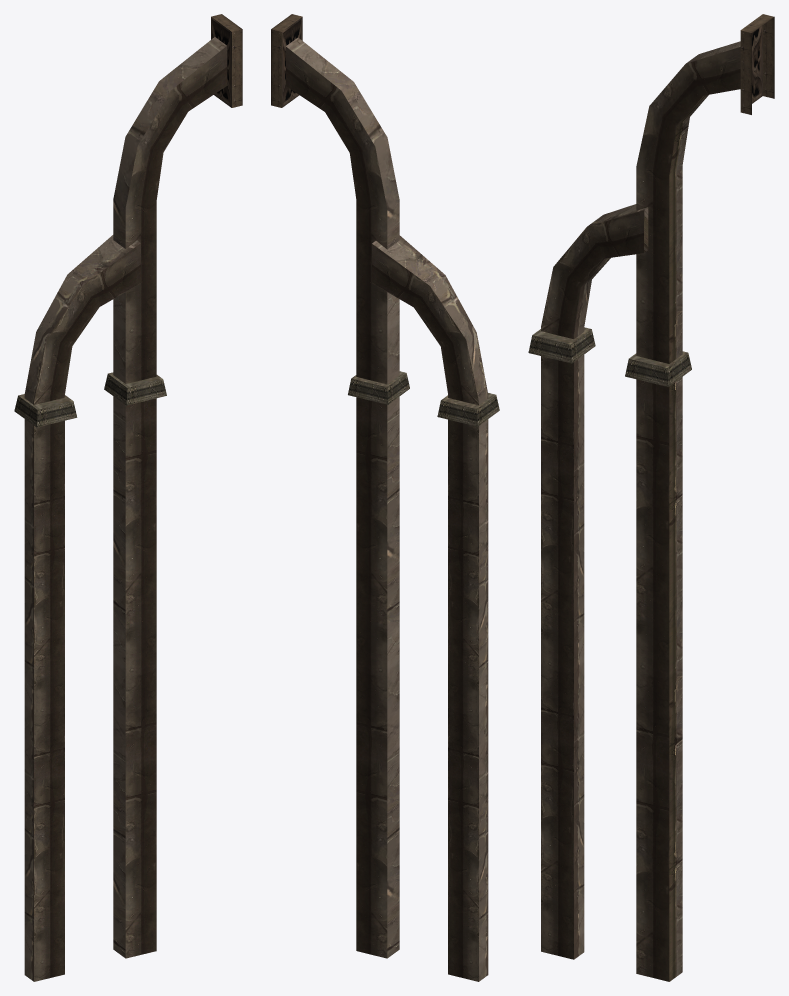
File: arch_away_deco.FBX
3 renders of one model, left to right at view 1: azimuth 30°, elevation 25°; view 2: azimuth 150°, elevation 25°; view 3: azimuth 330°, elevation 25°, orthographic. The views are drawn at different scales.
Parts seen in each view (by area): view 1: arch_away_deco; view 2: arch_away_deco; view 3: arch_away_deco.
Part boxes in pixels (bbox=[...]): arch_away_deco: bbox=[14, 14, 242, 981]; arch_away_deco: bbox=[271, 14, 499, 981]; arch_away_deco: bbox=[528, 14, 774, 981].
Size of the model in its own units: 4.75 by 19.89 by 0.884.
2 materials, 2 textured.
